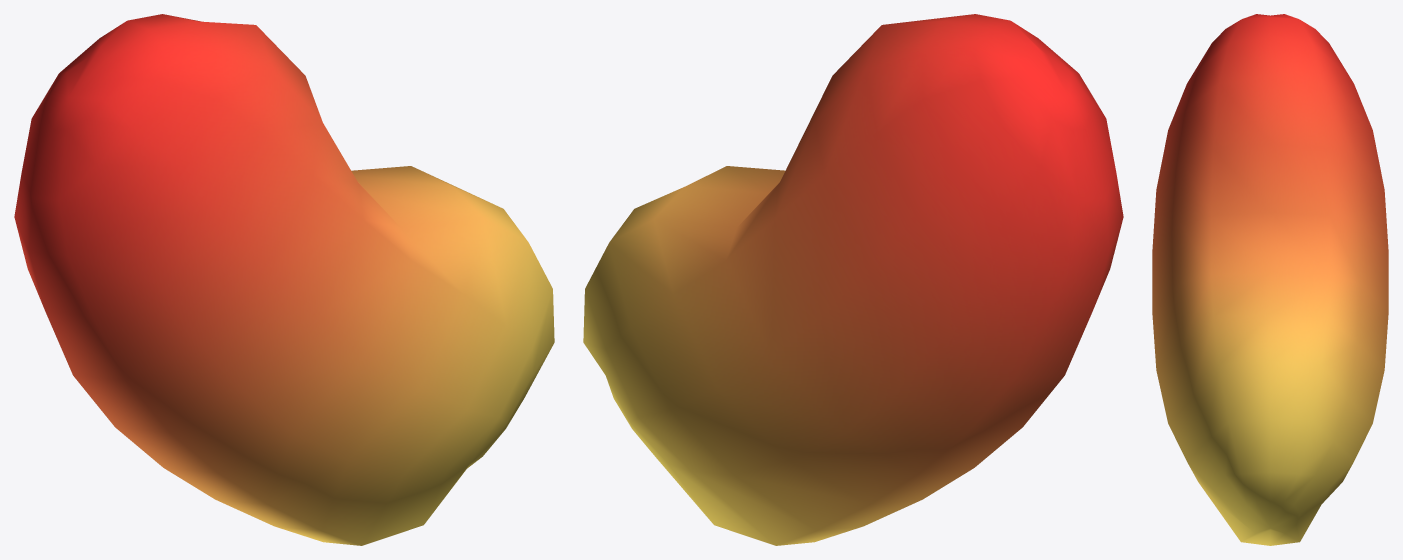
Rendered from JM_HeartLeft.fbx.
3 views of the same model, side by side, from view 1: azimuth 30°, elevation 25°; view 2: azimuth 150°, elevation 25°; view 3: azimuth 270°, elevation 25° (orthographic). The views are drawn at different scales.
Parts seen in each view (by area): view 1: polySurface264; view 2: polySurface264; view 3: polySurface264.
Boxes of the visible parts, x1,y1,x2,y2 form: polySurface264: [14, 14, 554, 545]; polySurface264: [583, 14, 1123, 545]; polySurface264: [1152, 14, 1388, 545].
Size of the model in its own units: 47.63 by 49.56 by 24.4.
